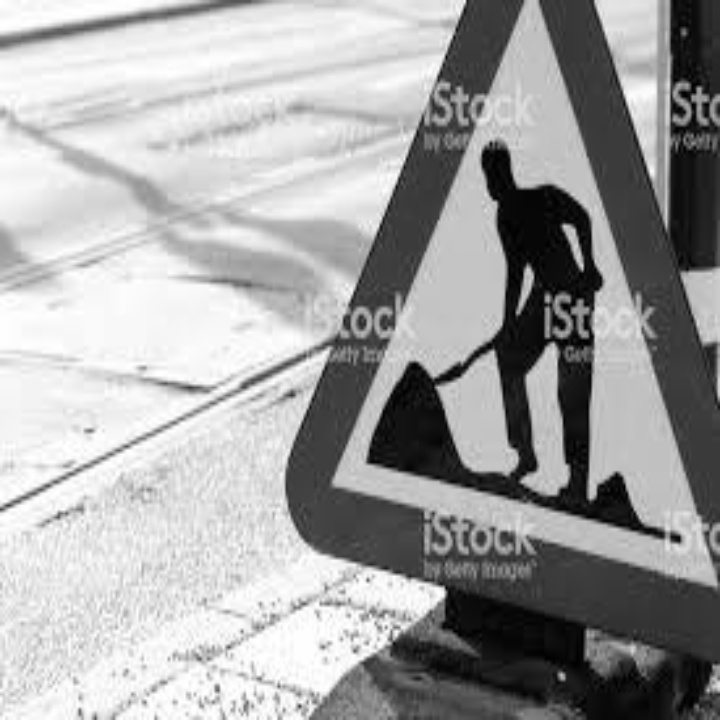const: (336, 83, 720, 559)
